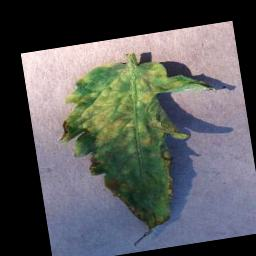Leaf_Mold: (47, 47, 235, 245)
